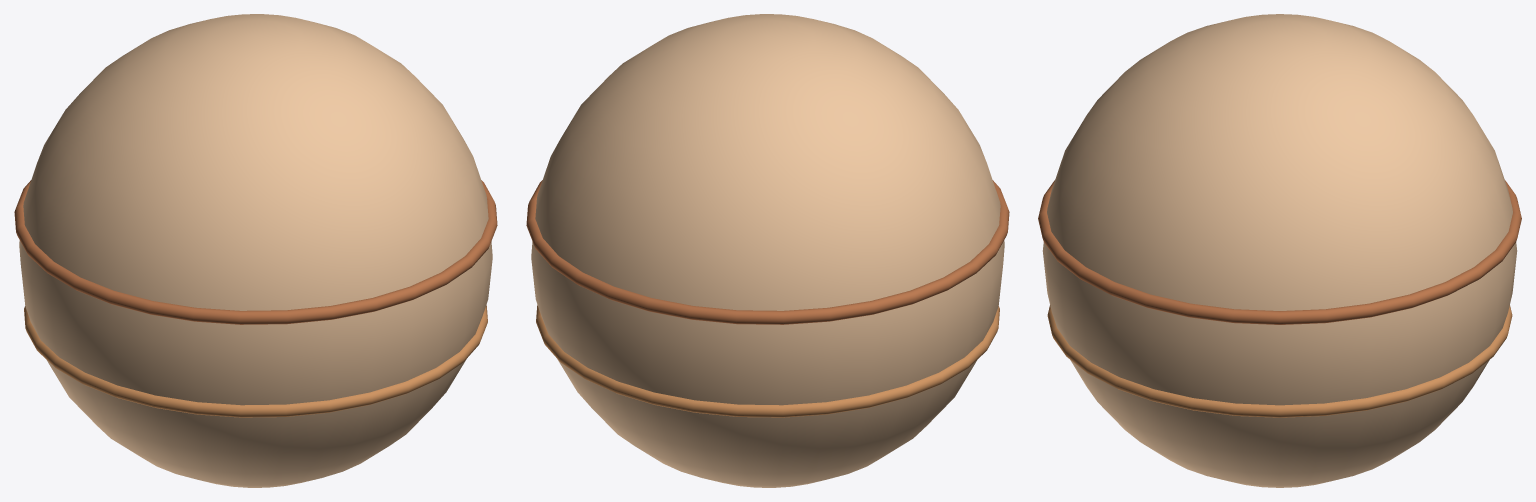
File: planet_jupiter.glb
The picture shows the model from 3 angles, left to right: view 1: azimuth 30°, elevation 25°; view 2: azimuth 150°, elevation 25°; view 3: azimuth 270°, elevation 25°; orthographic projection.
Visible parts, largest first — view 1: planet_jupiter; view 2: planet_jupiter; view 3: planet_jupiter.
Part boxes in pixels (x1,y1,x2,y2): planet_jupiter: (14,14,497,487); planet_jupiter: (526,14,1009,487); planet_jupiter: (1038,14,1521,487).
Size of the model in its own units: 0.816 by 0.8 by 0.816.
